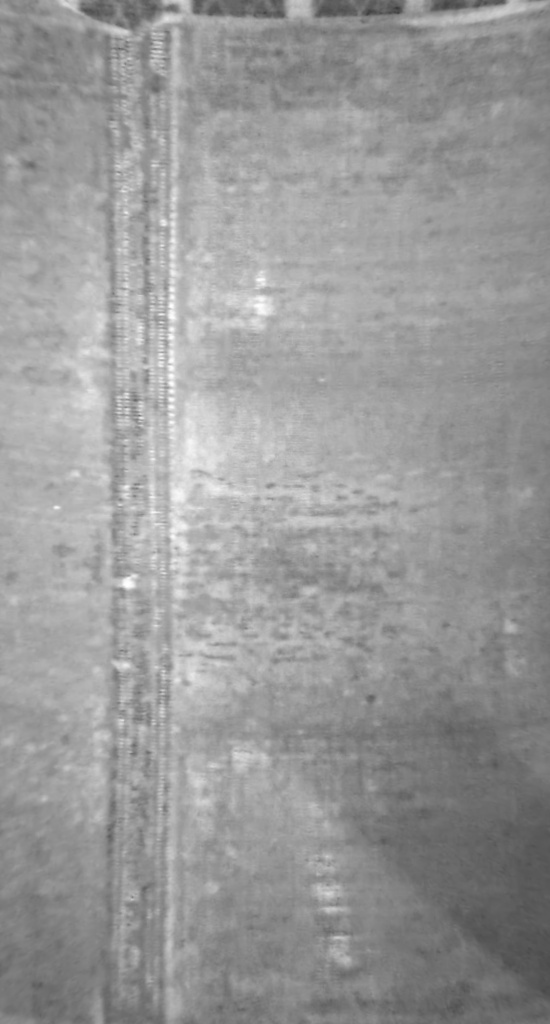splice: (96, 1, 193, 1021)
